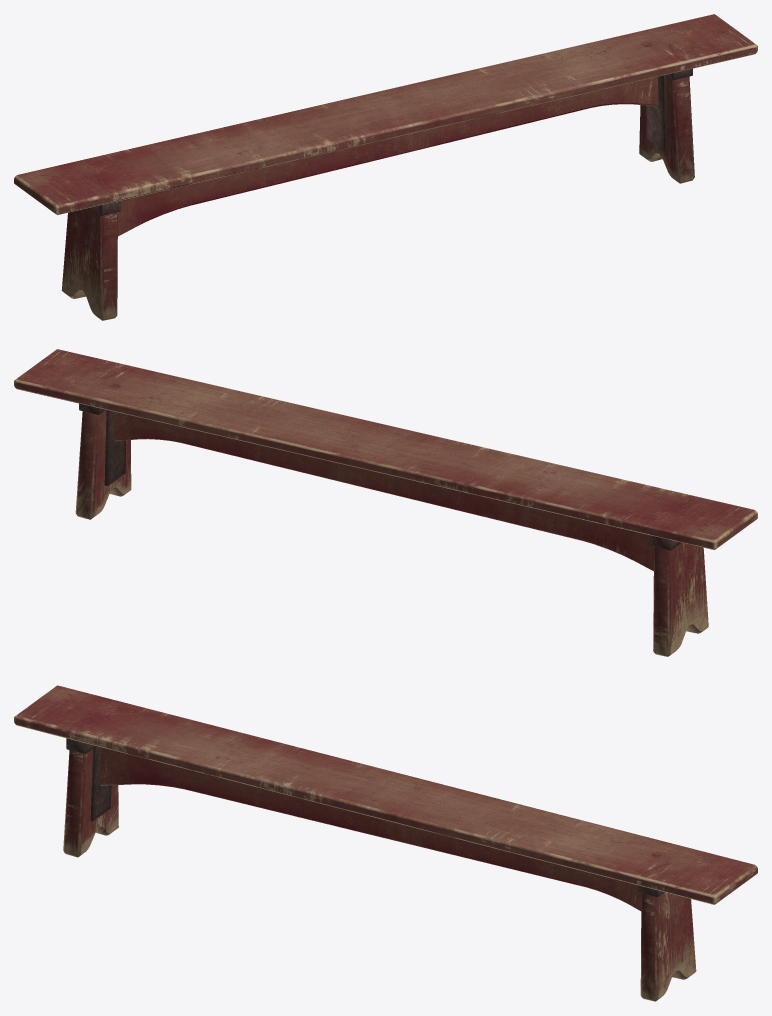
File: bench.glb
3 views of the same model, one above another, from view 1: azimuth 30°, elevation 25°; view 2: azimuth 150°, elevation 25°; view 3: azimuth 330°, elevation 25° (orthographic).
Visible parts, largest first — view 1: Cube; view 2: Cube; view 3: Cube.
Boxes of the visible parts, box(x1,y1,x2,y2) form: Cube: box(14, 14, 757, 320); Cube: box(14, 349, 757, 656); Cube: box(14, 685, 757, 1001).
Bounding box in the file's own units: 2.78 × 0.5016 × 0.2993.
Materials: 1 (1 with a texture image).
